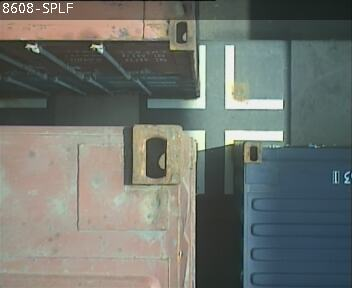groundmarker_1: (146, 46, 283, 109), (183, 130, 282, 192)
